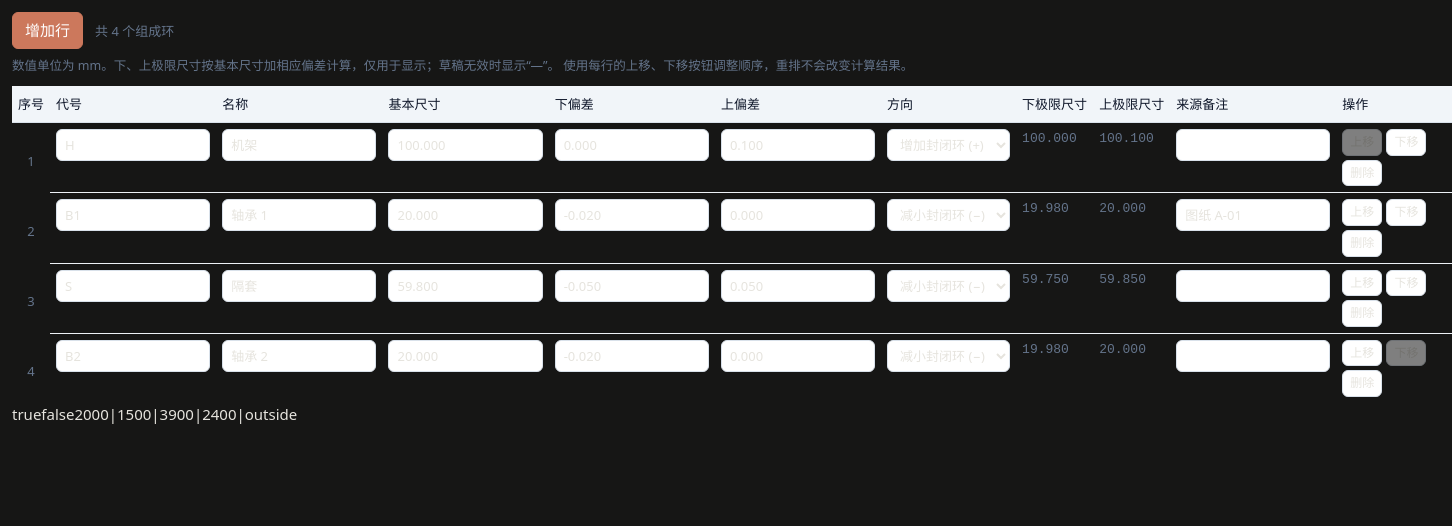
DimensionTable：方向、重排与确认状态 › 增加行会清除关系确认，并为新行提供空的可编辑字段
Check: the text with test id "relation-confirmed" reads "true", box [12, 404, 41, 424]
Step 1. Click the button "增加行" → (48, 31), box [12, 12, 83, 49]
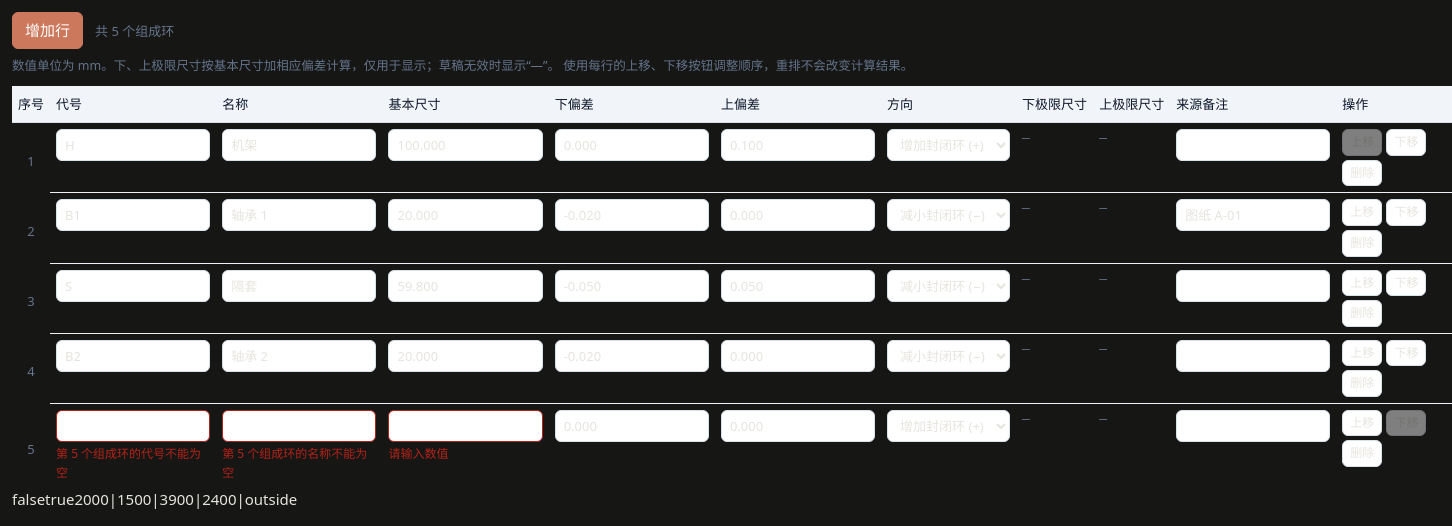
Check: the field named "第 5 行 代号" is empty, box [56, 410, 210, 442]
Check: the field named "第 5 行 基本尺寸" is empty, box [388, 410, 543, 442]
Check: the text with test id "relation-confirmed" reads "false", box [12, 489, 45, 509]
